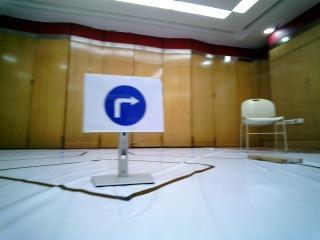right: (86, 78, 164, 131)
